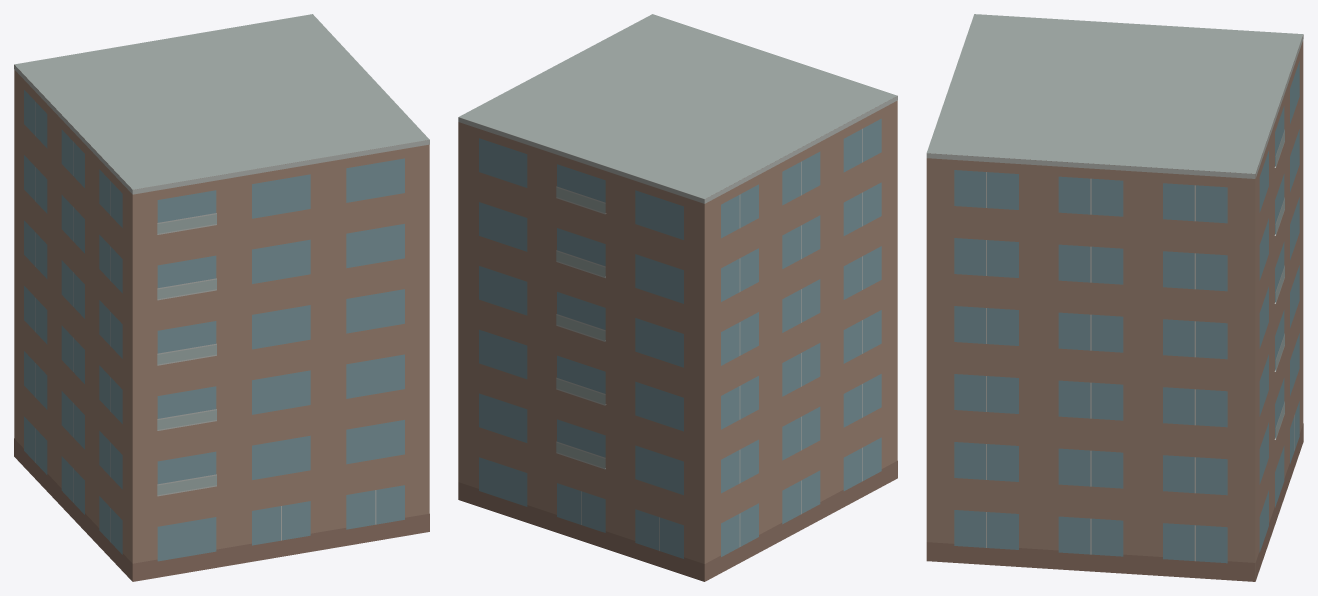
The model's file is survey-upis-32901412.glb.
3 views of the same model, side by side, from view 1: azimuth 30°, elevation 25°; view 2: azimuth 150°, elevation 25°; view 3: azimuth 270°, elevation 25° (orthographic). The views are drawn at different scales.
Parts seen in each view (by area): view 1: survey-upis-32901412.tmp; view 2: survey-upis-32901412.tmp; view 3: survey-upis-32901412.tmp.
Part boxes in pixels (box(x1,y1,x2,y2)): survey-upis-32901412.tmp: box(14, 14, 429, 581); survey-upis-32901412.tmp: box(458, 14, 897, 581); survey-upis-32901412.tmp: box(926, 14, 1303, 581).
Size of the model in its own units: 16.75 by 19.9 by 16.67.
